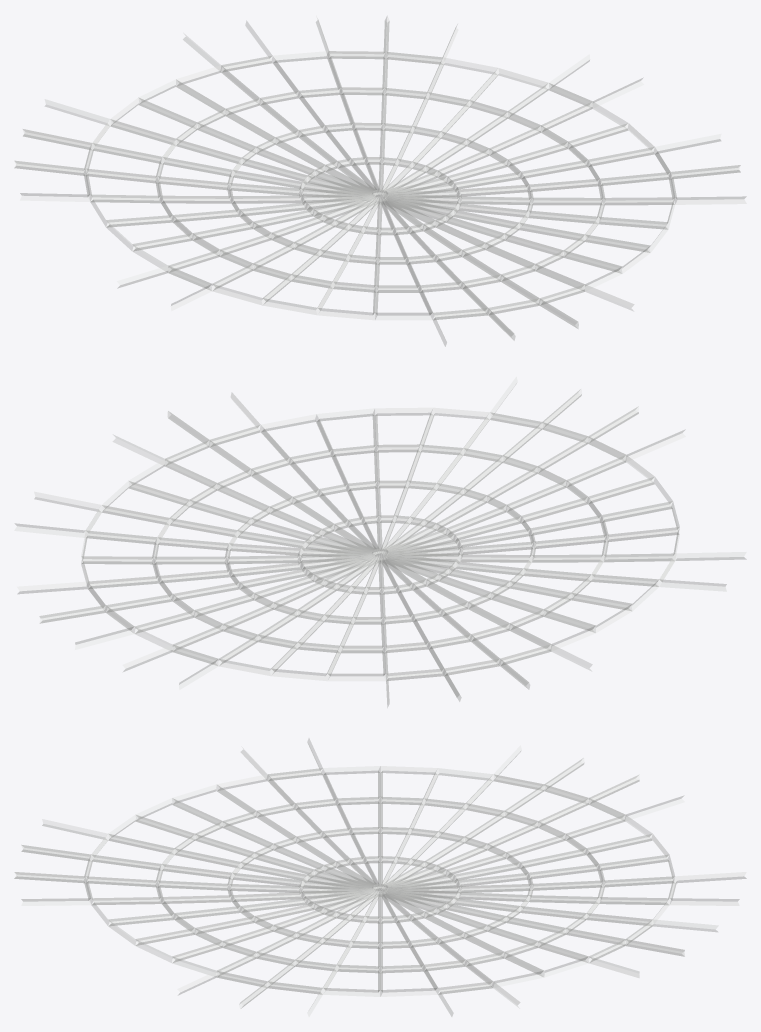
Rendered from teiav2.fbx.
3 renders of one model, top to bottom at view 1: azimuth 30°, elevation 25°; view 2: azimuth 150°, elevation 25°; view 3: azimuth 270°, elevation 25°, orthographic. The views are drawn at different scales.
Visible parts, largest first — view 1: Circle.002; view 2: Circle.002; view 3: Circle.002.
Boxes of the visible parts, <box> form: Circle.002: <box>14,16,746,346</box>; Circle.002: <box>14,377,746,707</box>; Circle.002: <box>14,738,746,1016</box>.
Bounding box in the file's own units: 0.9406 × 0.0356 × 1.07.
